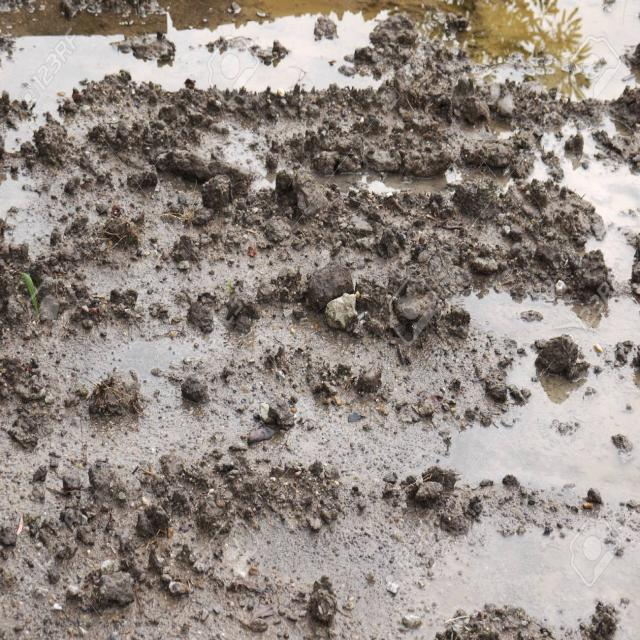suelo_seco: (137, 102, 547, 569)
